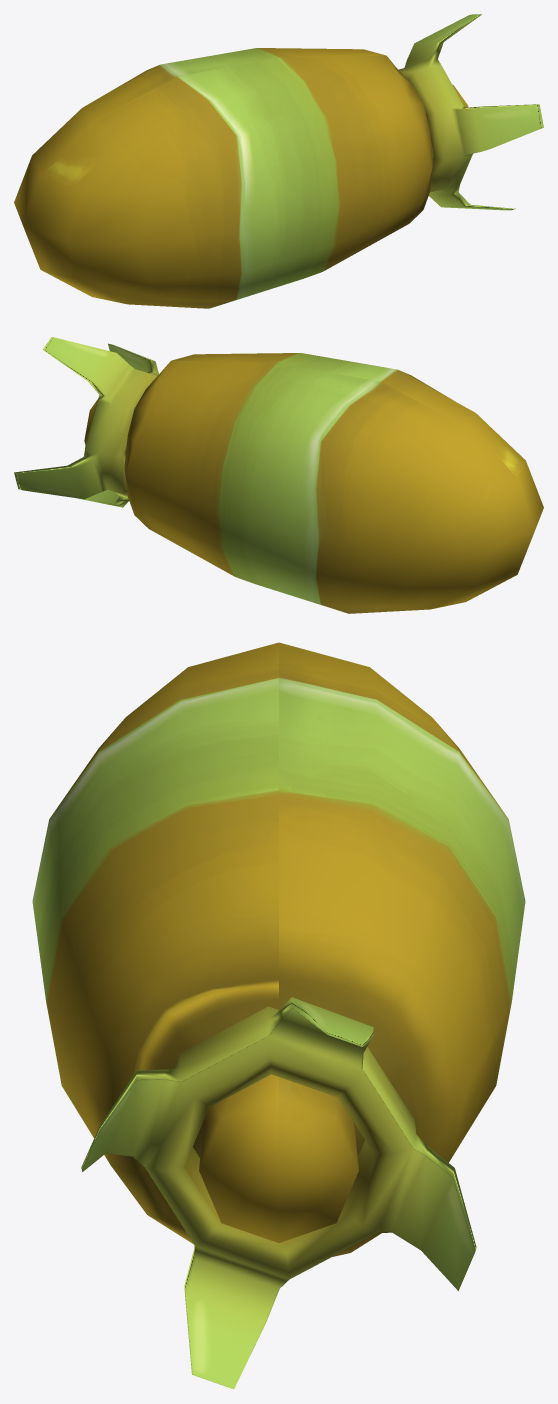
Rendered from BoomBang.fbx.
3 renders of one model, top to bottom at view 1: azimuth 30°, elevation 25°; view 2: azimuth 150°, elevation 25°; view 3: azimuth 270°, elevation 25°, orthographic. The views are drawn at different scales.
Visible parts, largest first — view 1: polySurface1, polySurface2; view 2: polySurface1, polySurface2; view 3: polySurface1, polySurface2.
Part boxes in pixels (<box>): polySurface1: <box>14,48,468,308</box>; polySurface2: <box>398,14,543,210</box>; polySurface1: <box>84,353,543,613</box>; polySurface2: <box>14,337,158,507</box>; polySurface1: <box>32,642,525,1256</box>; polySurface2: <box>81,997,476,1389</box>.
Bounding box in the file's own units: 9.01 × 4.08 × 4.08.
